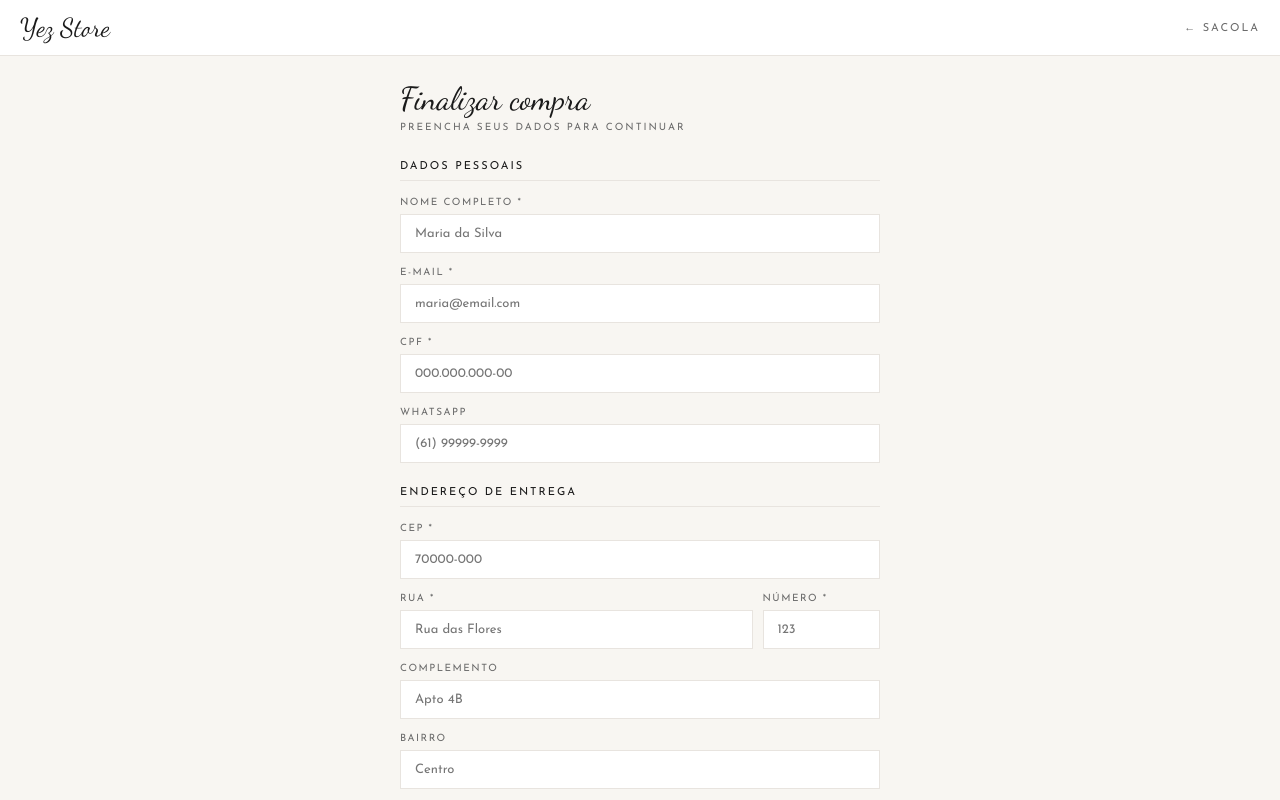
Test: CheckoutPage › exibe erro quando CEP não é encontrado no ViaCEP
The width and height of the screenshot is (1280, 800).
In the field with placeholder "70000-000": x=640, y=560 x1=400 y1=540 x2=880 y2=579, type "12345678"
(page scrolled)
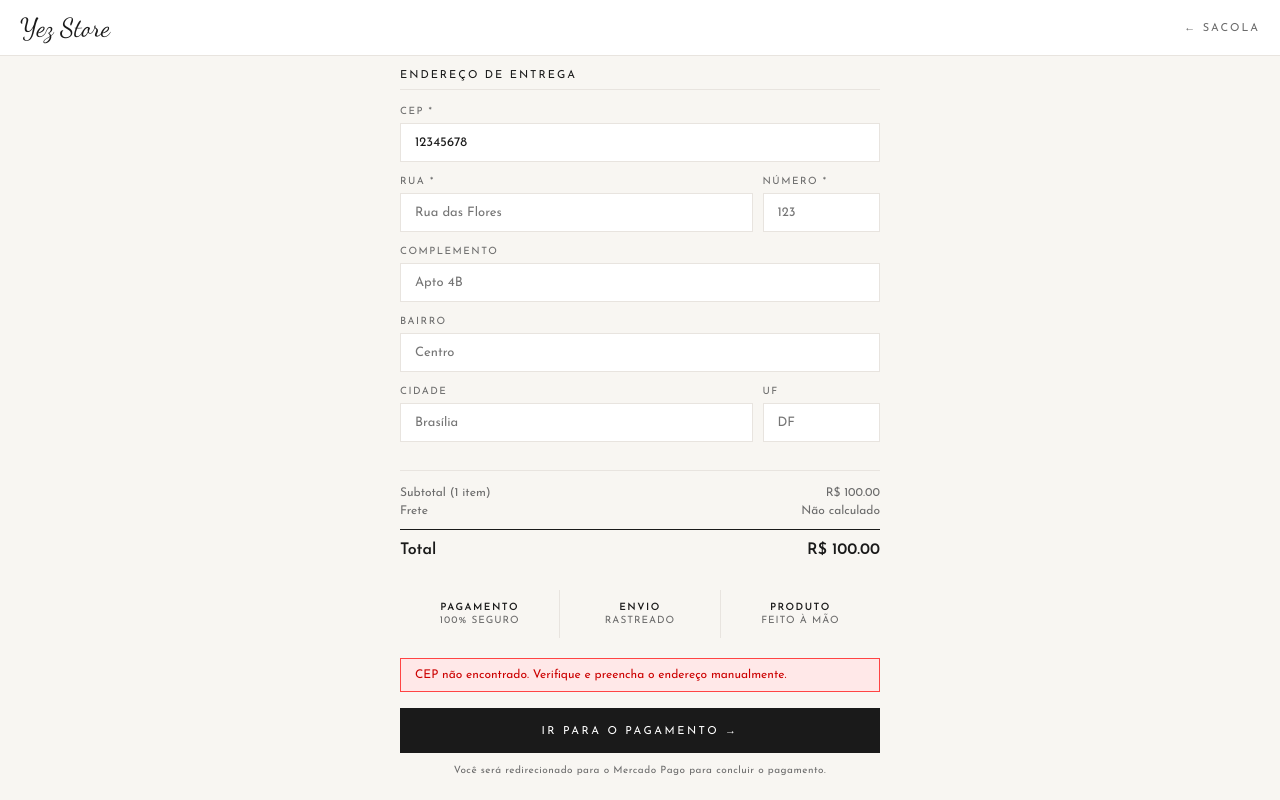
Expected: the text "CEP não encontrado. Verifique e preencha o endereço manualmente." is shown, x1=400 y1=658 x2=880 y2=692
